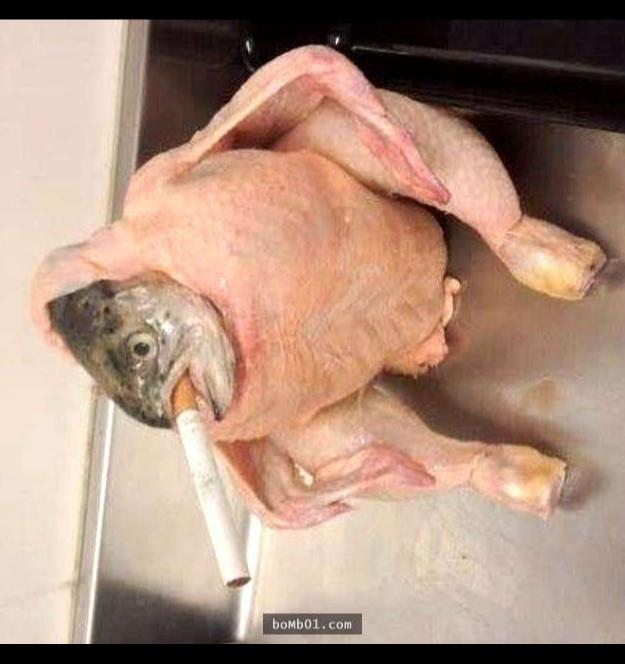Cigarette: (168, 380, 255, 590)
